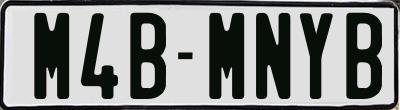4: (80, 12, 121, 100)
B: (344, 10, 386, 100), (128, 13, 169, 104)
M: (32, 10, 71, 102), (208, 13, 243, 104)
N: (254, 12, 291, 98)
Y: (297, 13, 333, 102)
